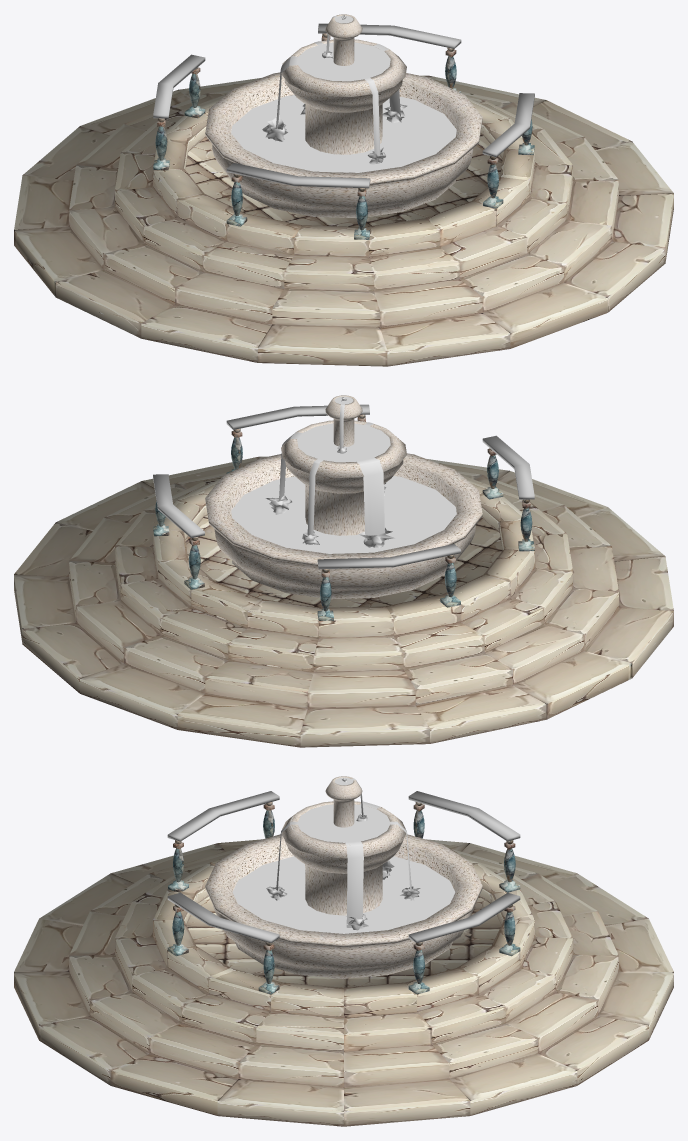
Rendered from FountainBase_ForestProp_003.fbx.
3 views of the same model, one above another, from view 1: azimuth 30°, elevation 25°; view 2: azimuth 150°, elevation 25°; view 3: azimuth 270°, elevation 25° (orthographic).
Parts seen in each view (by area): view 1: ladder, fountain, Spray.001, Spray.002, Handrail.002, Handrail.001, Handrail.003, Handrail, Pillar.006, Pillar.008, Pillar.003, Pillar.005 (+2 smaller); view 2: ladder, fountain, Spray.001, Spray.002, WaterFlow.003, Handrail.001, Handrail.002, Handrail, Handrail.003, Pillar.002, Pillar.003, Pillar.006 (+2 smaller); view 3: ladder, fountain, Spray.001, Spray.002, Handrail.003, Handrail, Handrail.002, Handrail.001, WaterFlow.002, Pillar.004, Pillar.001, Pillar.007 (+3 smaller).
Boxes of the visible parts, x1,y1,x2,y2 form: ladder: (14, 75, 673, 366); fountain: (205, 14, 482, 218); Spray.001: (231, 95, 456, 172); Spray.002: (297, 42, 393, 84); Handrail.002: (226, 163, 370, 188); Handrail.001: (153, 54, 205, 118); Handrail.003: (482, 93, 534, 156); Handrail: (318, 23, 461, 48); Pillar.006: (226, 173, 247, 226); Pillar.008: (483, 156, 503, 208); Pillar.003: (153, 118, 169, 170); Pillar.005: (354, 188, 370, 239); ladder: (14, 456, 673, 747); fountain: (205, 395, 482, 599); Spray.001: (231, 476, 456, 553); Spray.002: (297, 420, 397, 462); WaterFlow.003: (357, 457, 384, 546); Handrail.001: (317, 544, 460, 569); Handrail.002: (482, 435, 534, 499); Handrail: (153, 474, 204, 538); Handrail.003: (226, 404, 369, 429); Pillar.002: (184, 537, 204, 589); Pillar.003: (440, 554, 460, 607); Pillar.006: (518, 499, 534, 551); ladder: (14, 839, 673, 1126); fountain: (205, 776, 482, 978); Spray.001: (232, 856, 455, 933); Spray.002: (290, 804, 390, 842); Handrail.003: (167, 892, 279, 943); Handrail: (408, 892, 520, 943); Handrail.002: (167, 791, 279, 841); Handrail.001: (408, 791, 520, 841); WaterFlow.002: (345, 841, 363, 927); Pillar.004: (499, 840, 520, 892); Pillar.001: (408, 942, 429, 994); Pillar.007: (258, 942, 279, 994).
Bounding box in the file's own units: 201 × 201 × 70.28.
